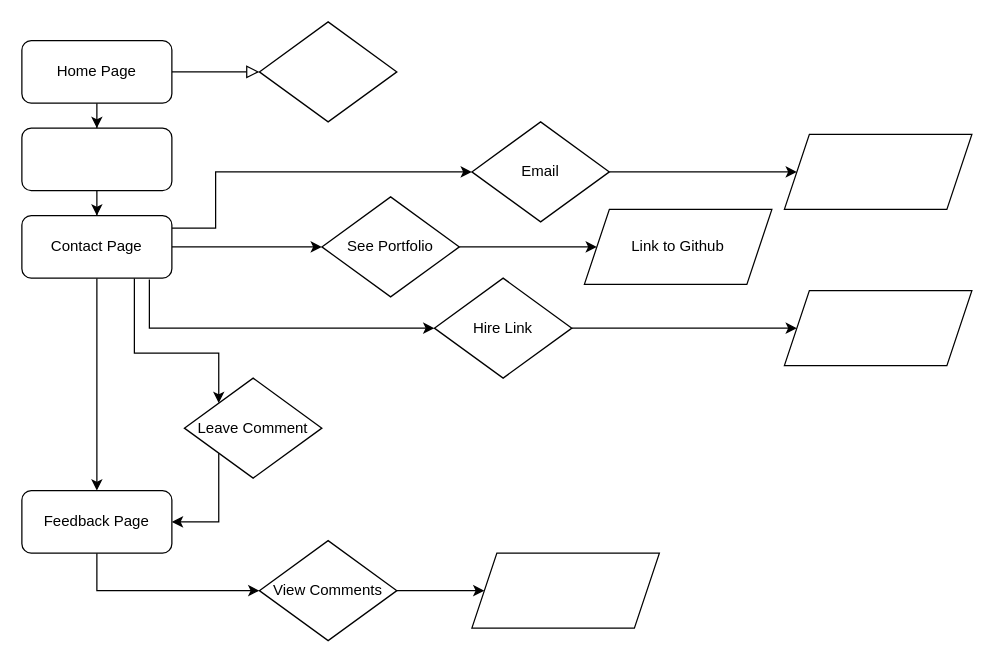
This 994x663 diagram has some shape labels left out. Each missing label, with the centre of its shape:
"About Page" goes at pixel 96 159.
"Email pop up/redirect" goes at pixel 877 171.
"Leave Comment popup" goes at pixel 565 590.
"Link to LinkedIn" goes at pixel 877 327.
"Play Game" goes at pixel 327 71.
